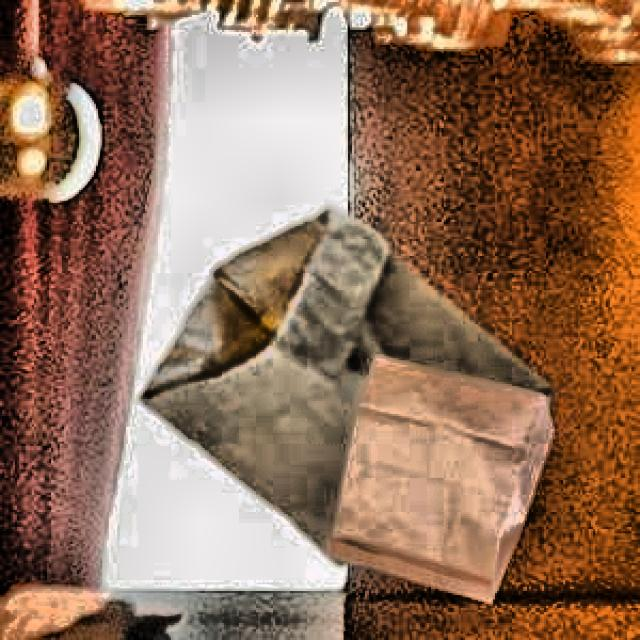Paper-bag: (115, 195, 559, 576), (309, 350, 562, 606)
